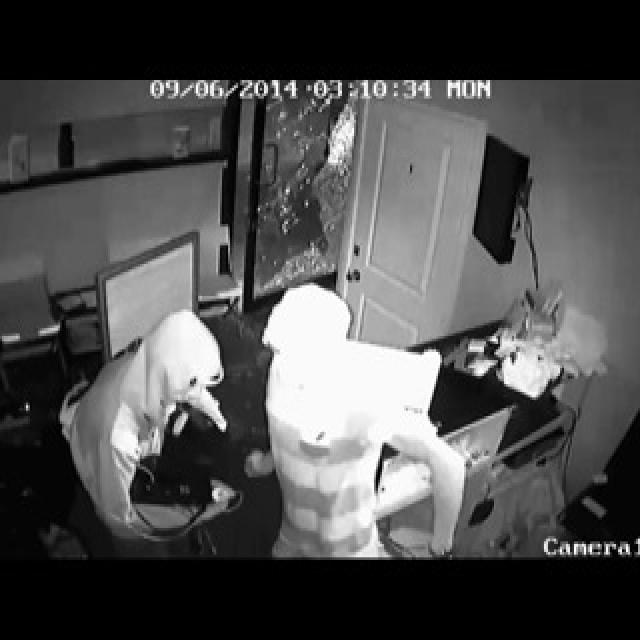thief: (81, 310, 447, 560)
